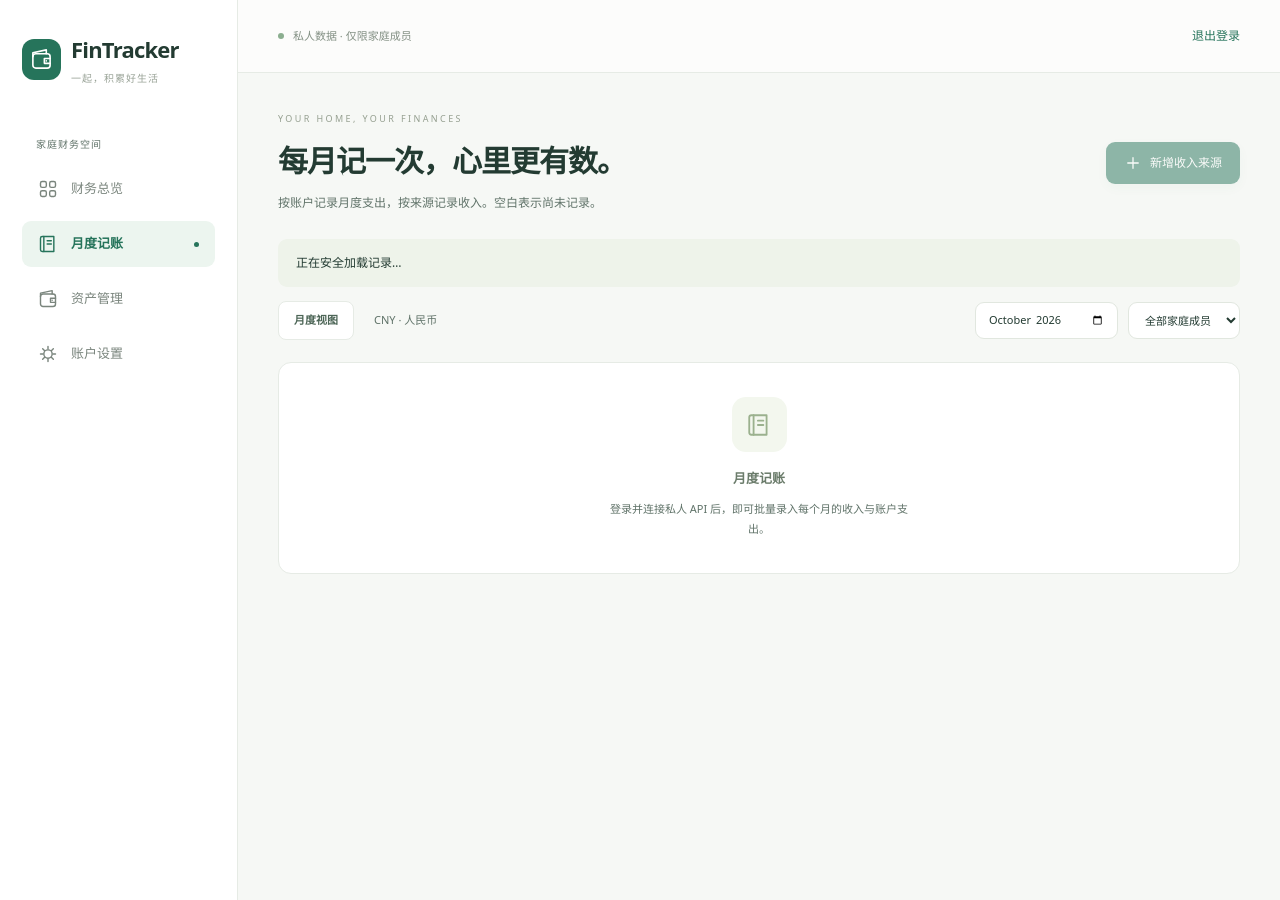
Test: household interface › does not restore records from a pending load after signing out
Click the button "退出登录": x=1216, y=36 x1=1192 y1=27 x2=1240 y2=45
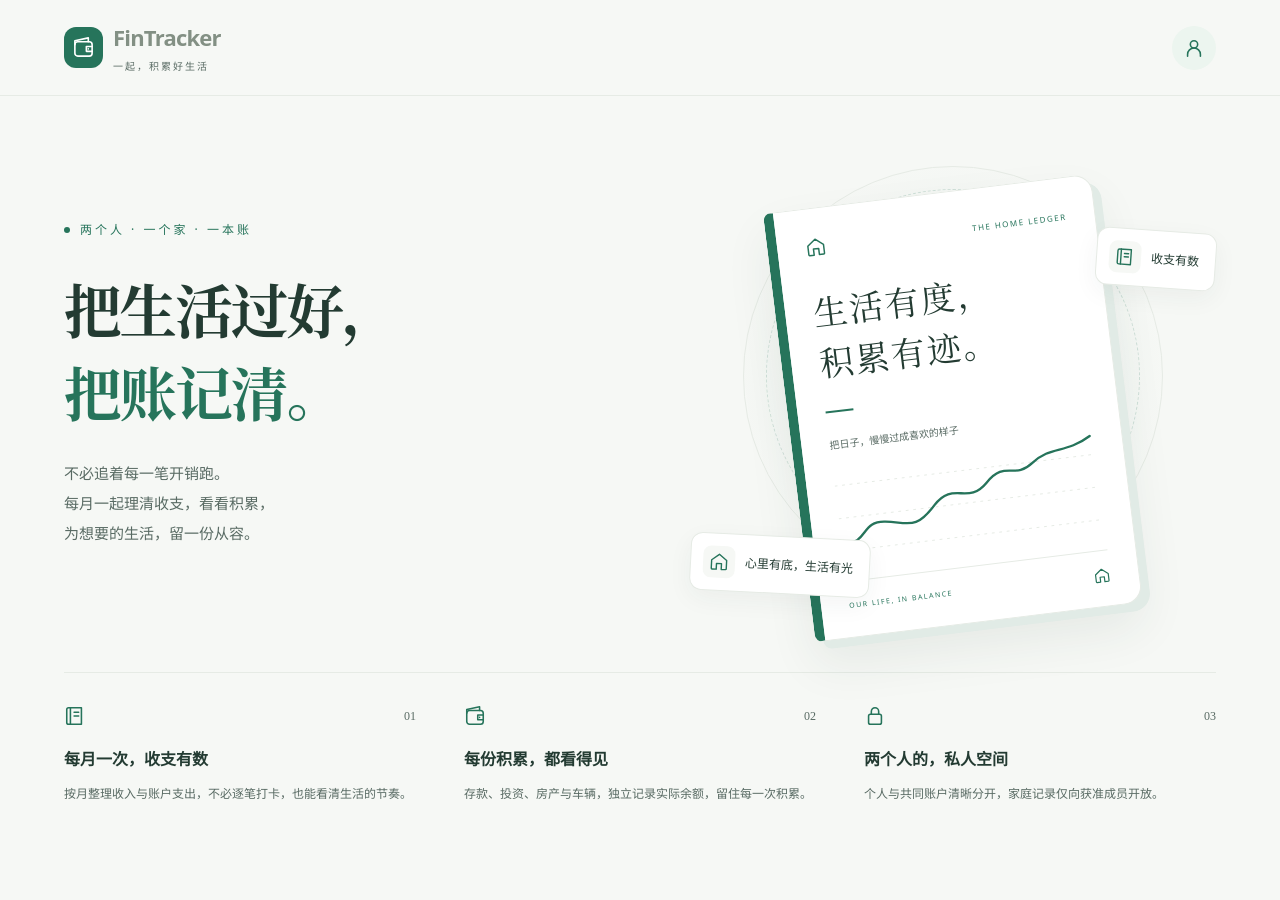
Now the navigation bar is gone
